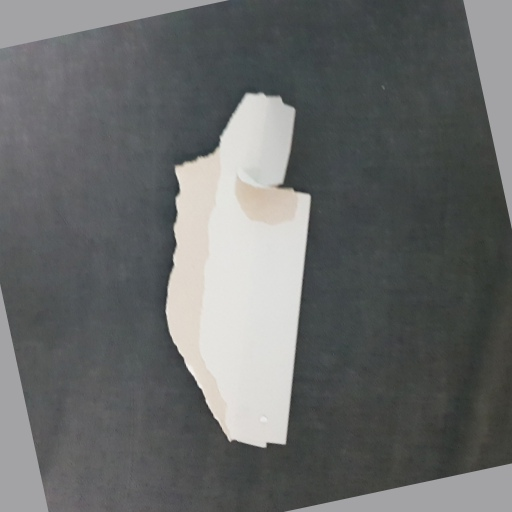Paper_3: (164, 85, 325, 460)
